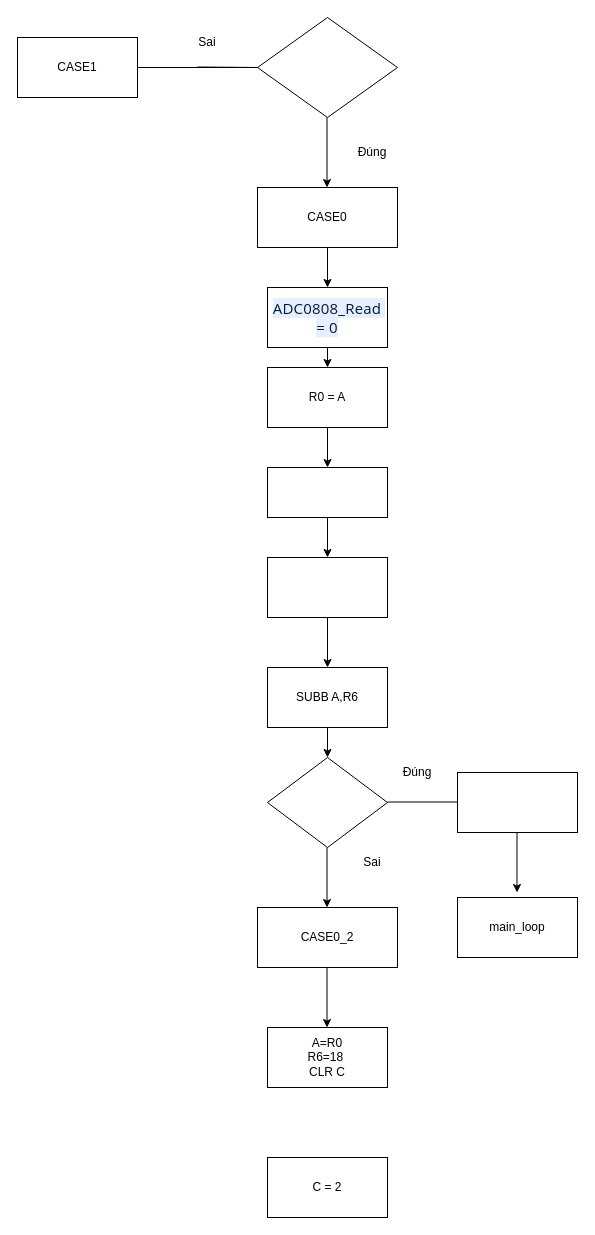
This 595x1235 diagram has some shape labels left out. Here are the shapes that lost their labels. From the top down, the box of each, then its label:
(256, 16, 398, 118): R5=0
(266, 466, 388, 518): R6 = 12
(266, 556, 388, 618): C = 0
(266, 756, 388, 848): C=1
(456, 772, 578, 832): P0=0 P1=0
